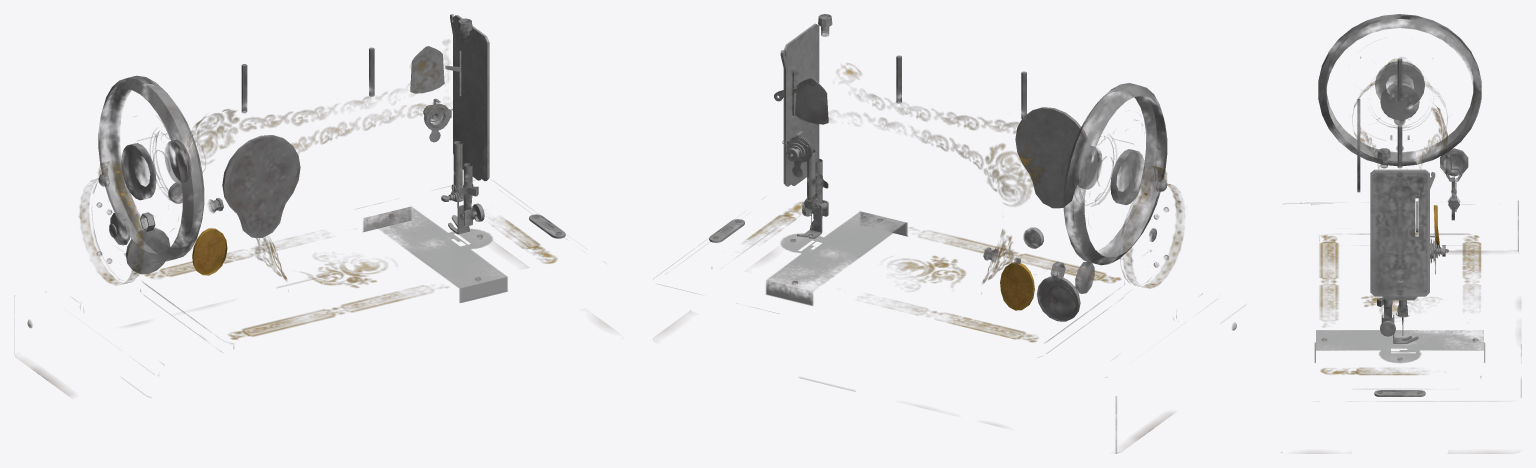
File: sewing-machine-hand.glb
3 renders of one model, left to right at view 1: azimuth 30°, elevation 25°; view 2: azimuth 150°, elevation 25°; view 3: azimuth 270°, elevation 25°, orthographic. The views are drawn at different scales.
Parts seen in each view (by area): view 1: sewing-machine-hand; view 2: sewing-machine-hand; view 3: sewing-machine-hand.
Boxes of the visible parts, x1=… form: sewing-machine-hand: x1=14, y1=14, x2=610, y2=397; sewing-machine-hand: x1=653, y1=14, x2=1242, y2=453; sewing-machine-hand: x1=1281, y1=14, x2=1521, y2=453.
Size of the model in its own units: 0.5927 by 0.3247 by 0.2704.
1 material, 1 textured.
